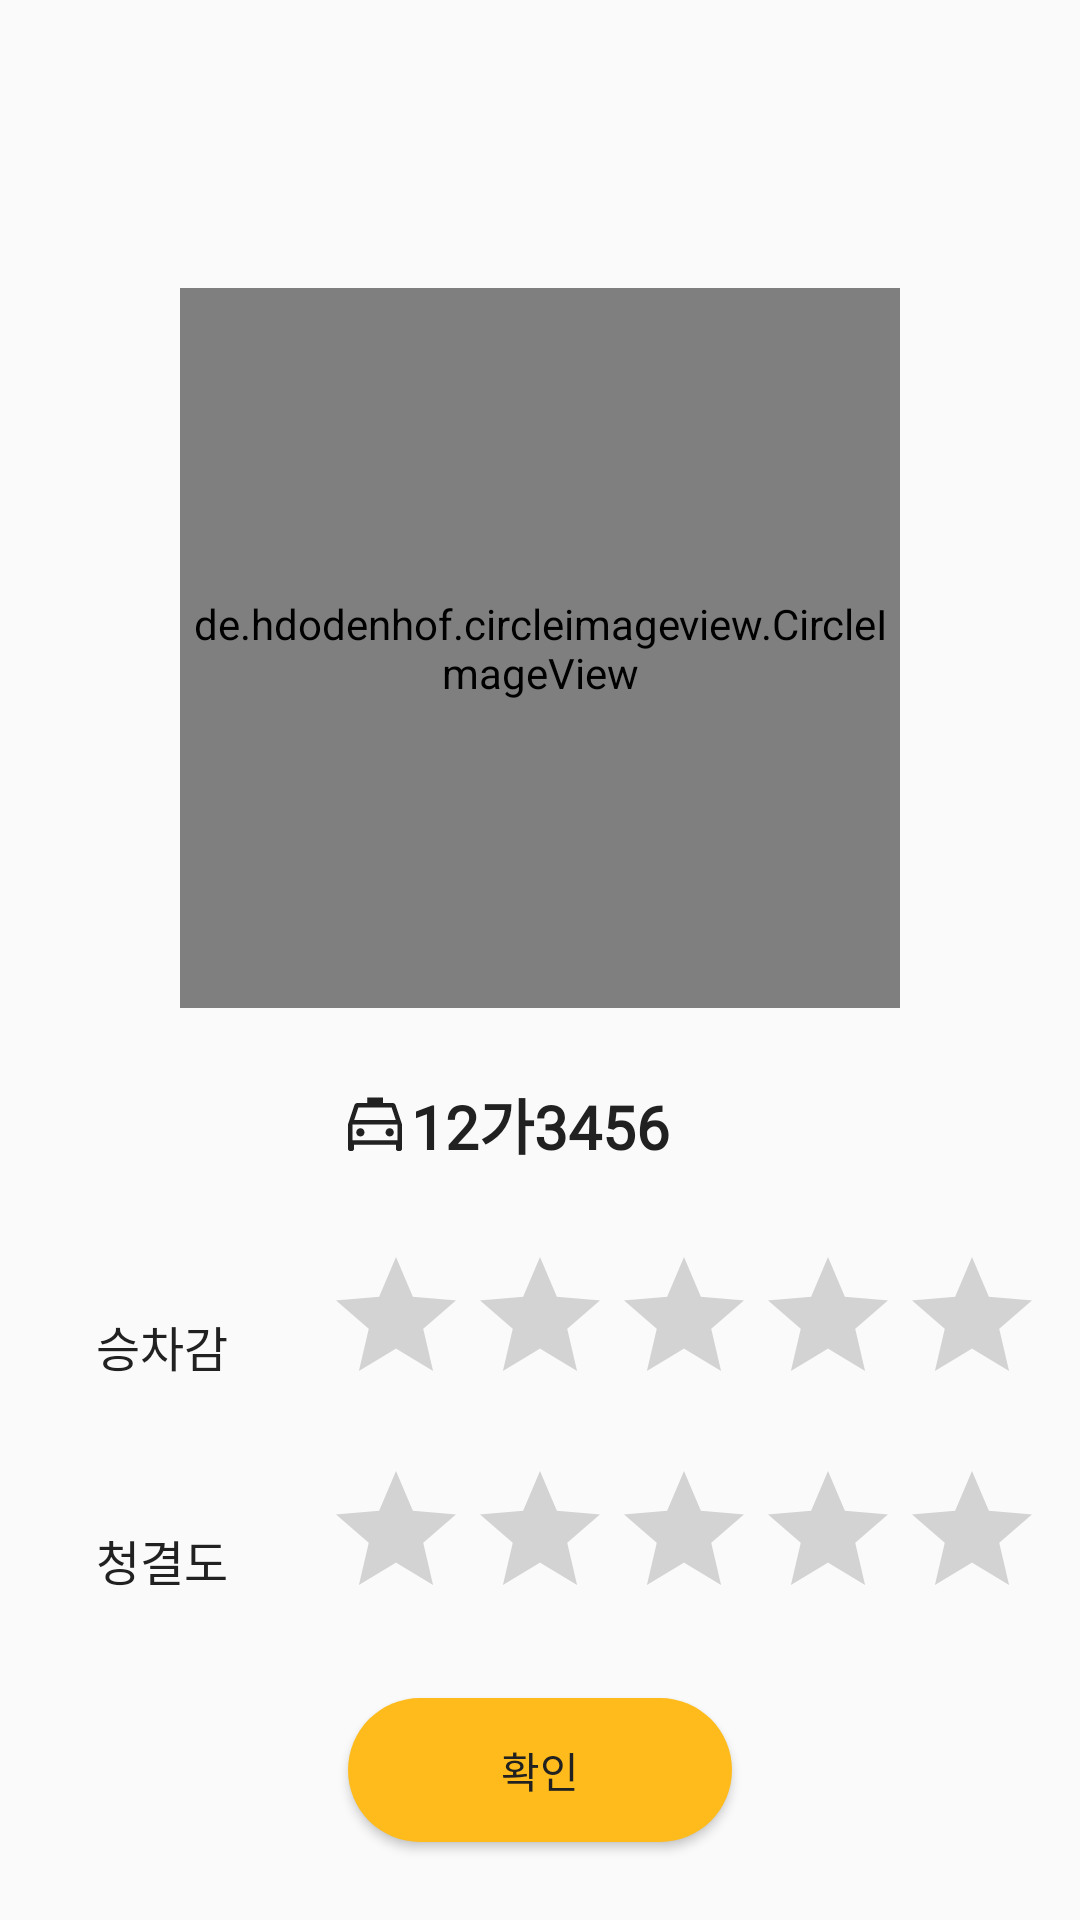

Where to tap for icons on this 1080×1920 app screen, as [x,y]:
taxi number: [375,1124]
